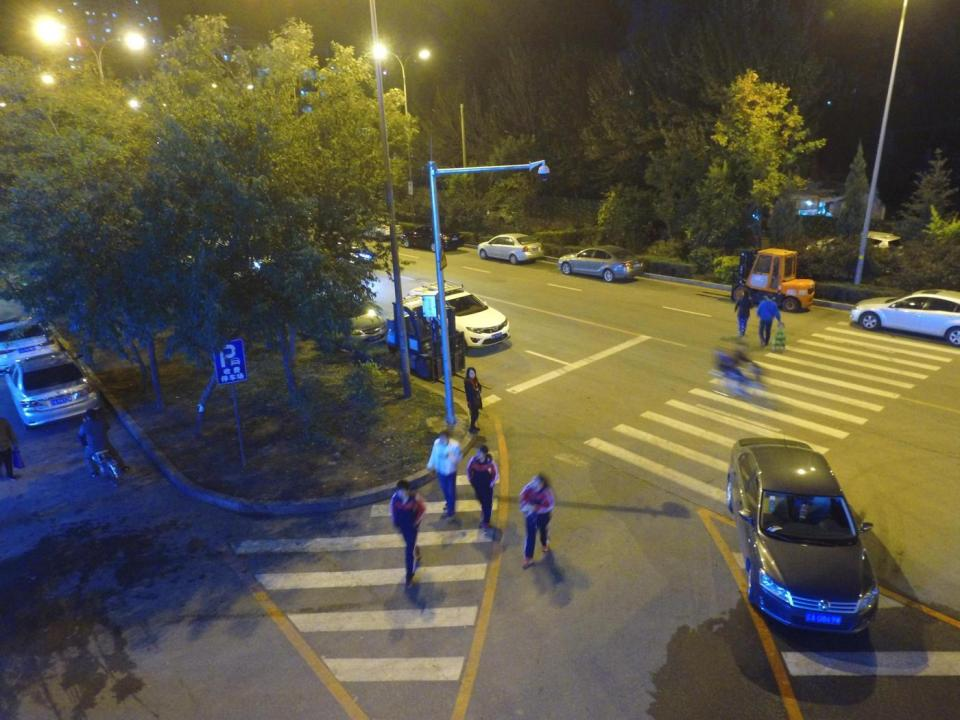car: (728, 436, 881, 632), (2, 350, 102, 430), (409, 282, 510, 351), (849, 287, 960, 347), (299, 293, 386, 347), (810, 230, 904, 272), (557, 245, 646, 284), (0, 319, 62, 372), (479, 234, 545, 263), (400, 225, 467, 252), (359, 216, 401, 241)
